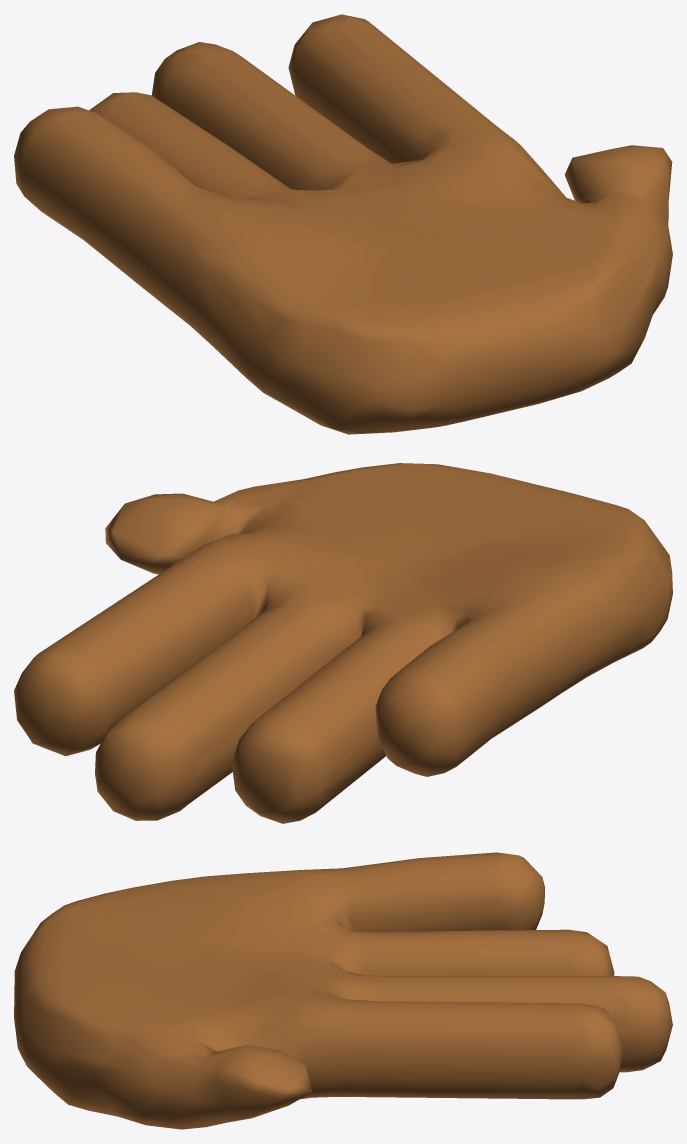
The model's file is extended_hand_right.fbx.
3 renders of one model, top to bottom at view 1: azimuth 30°, elevation 25°; view 2: azimuth 150°, elevation 25°; view 3: azimuth 270°, elevation 25°, orthographic. The views are drawn at different scales.
Parts seen in each view (by area): view 1: mesh; view 2: mesh; view 3: mesh.
Boxes of the visible parts, x1,y1,x2,y2 form: mesh: [14, 14, 672, 434]; mesh: [14, 463, 672, 823]; mesh: [14, 852, 672, 1129].
Size of the model in its own units: 6.41 by 1.82 by 8.51.
